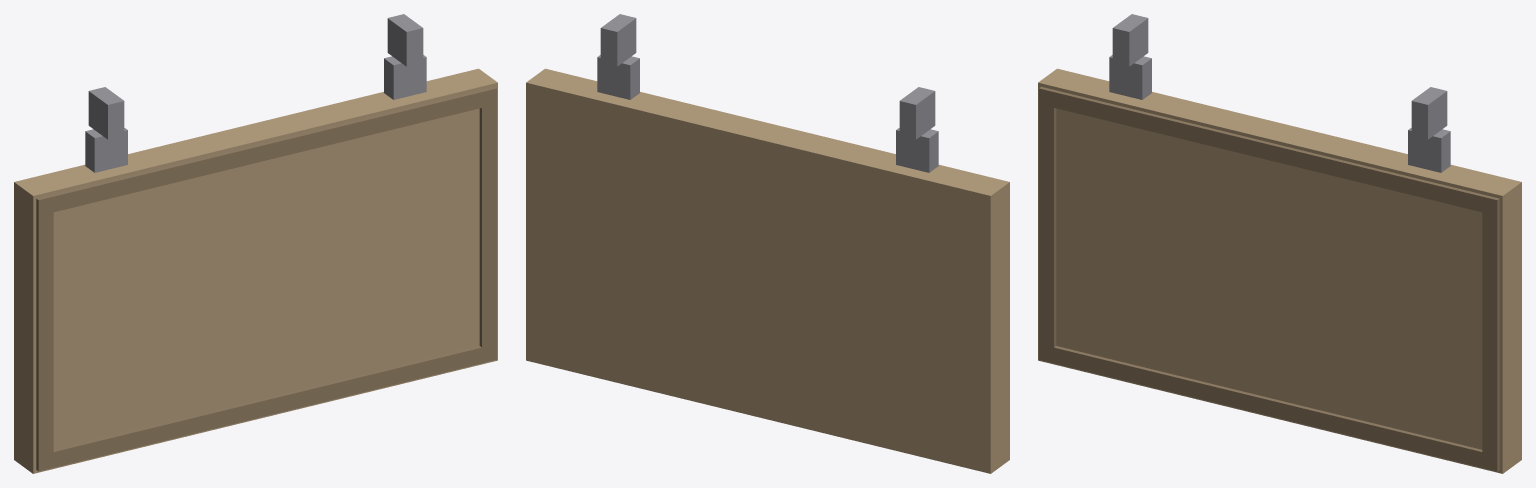
Rendered from sign_spruce_hang.gltf.
The picture shows the model from 3 angles, left to right: view 1: azimuth 30°, elevation 25°; view 2: azimuth 150°, elevation 25°; view 3: azimuth 330°, elevation 25°; orthographic projection.
Parts seen in each view (by area): view 1: sign_spruce_hang; view 2: sign_spruce_hang; view 3: sign_spruce_hang.
Part boxes in pixels (bbox=[...]): sign_spruce_hang: bbox=[14, 14, 497, 473]; sign_spruce_hang: bbox=[526, 14, 1009, 473]; sign_spruce_hang: bbox=[1038, 14, 1521, 473].
Size of the model in its own units: 0.875 by 0.631 by 0.07.
